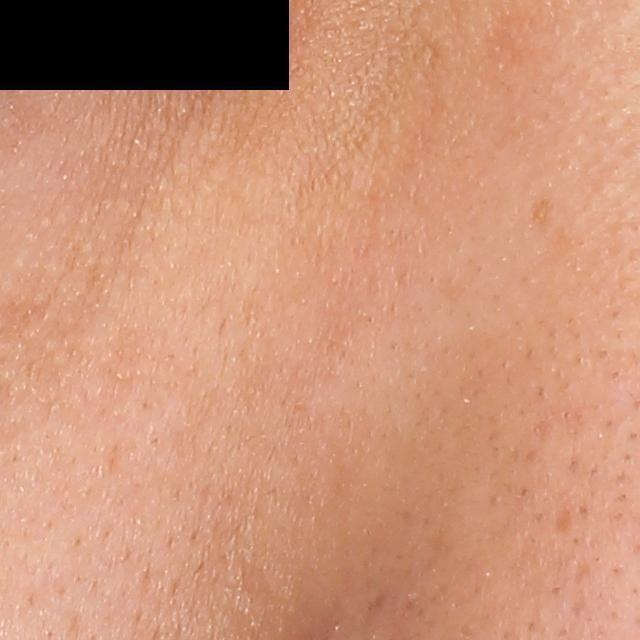melasma: (524, 190, 555, 230)
